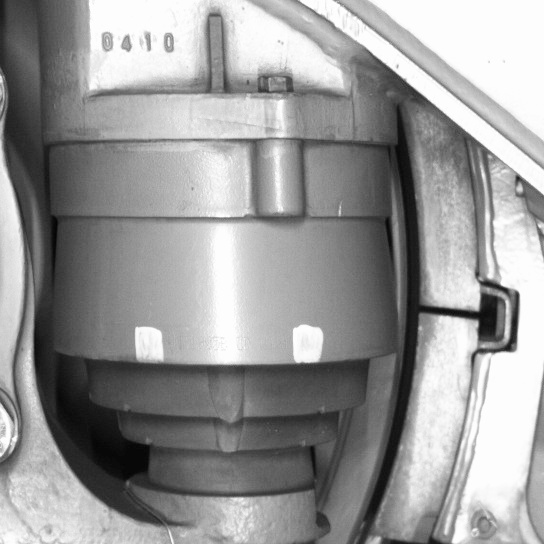KnifeSwitch: (346, 140, 482, 541)
